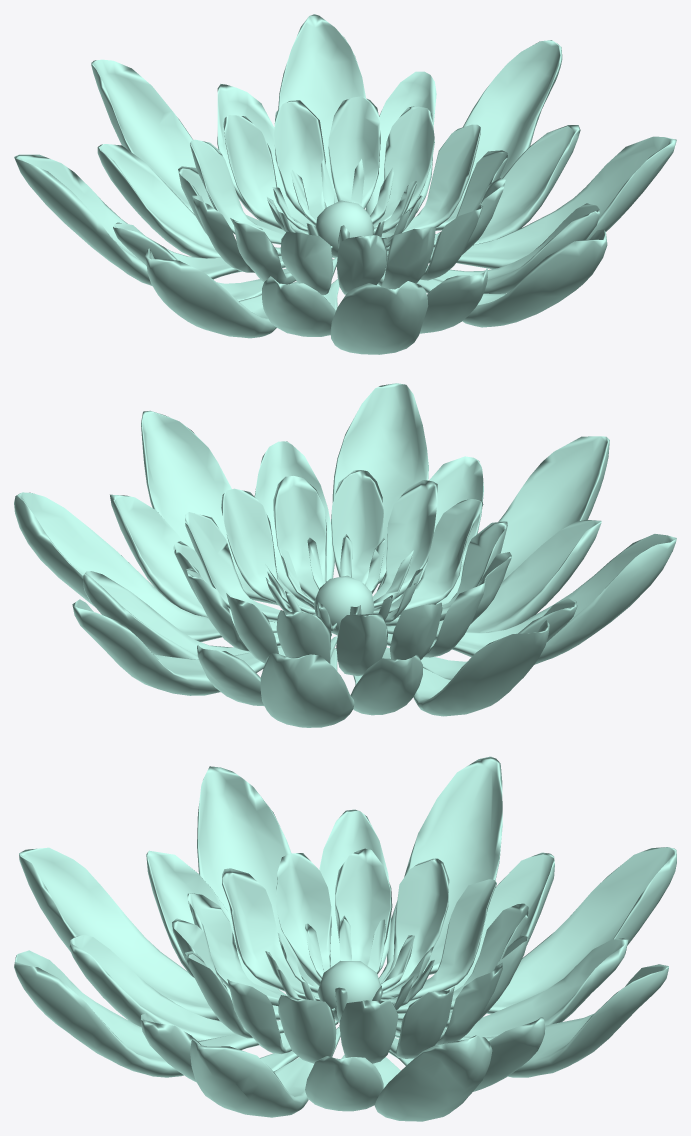
File: emerald_10k_edit.glb
The picture shows the model from 3 angles, top to bottom: view 1: azimuth 30°, elevation 25°; view 2: azimuth 150°, elevation 25°; view 3: azimuth 270°, elevation 25°; orthographic projection. The views are drawn at different scales.
Visible parts, largest first — view 1: PM3D_polySurface40; view 2: PM3D_polySurface40; view 3: PM3D_polySurface40.
Boxes of the visible parts, x1,y1,x2,y2 form: PM3D_polySurface40: [14, 14, 676, 354]; PM3D_polySurface40: [14, 383, 676, 727]; PM3D_polySurface40: [14, 756, 676, 1121].
Bounding box in the file's own units: 11.55 × 2.84 × 11.54.
